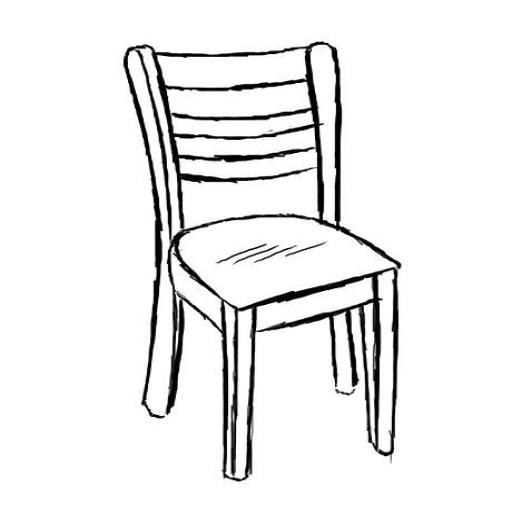chair: (104, 40, 415, 486)
